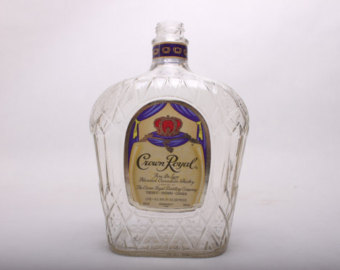emptybottle: (90, 21, 248, 257)
